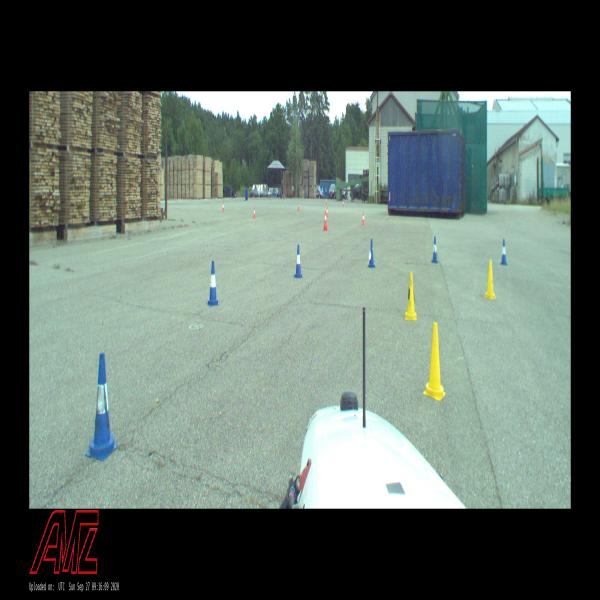blue_cone: (84, 352, 119, 462), (206, 261, 219, 306), (294, 244, 302, 278), (368, 238, 375, 268), (431, 236, 438, 264), (500, 239, 507, 265)
orange_cone: (362, 211, 365, 226), (324, 211, 327, 226), (253, 206, 256, 219), (326, 206, 329, 218), (297, 202, 300, 211), (222, 201, 224, 212), (342, 200, 344, 208), (326, 198, 328, 205)
yellow_cone: (423, 322, 446, 401), (404, 272, 416, 320), (484, 258, 496, 300)
